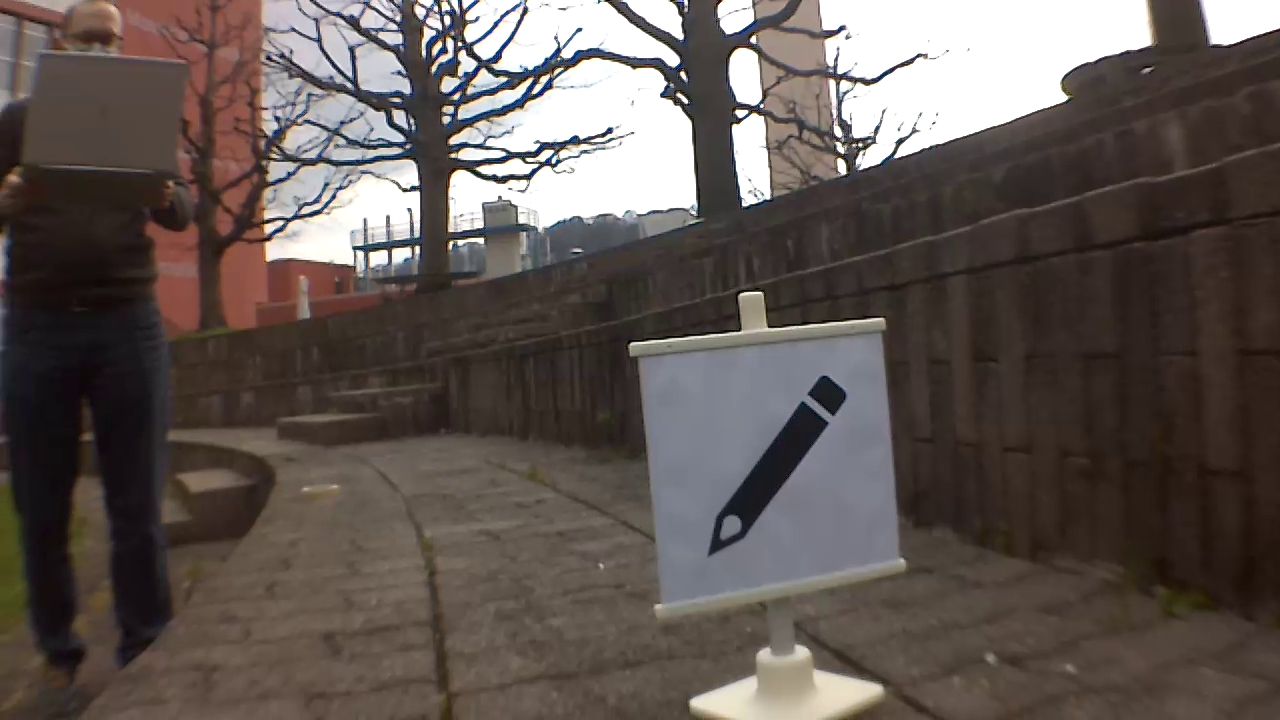pencil: (711, 372, 851, 553)
